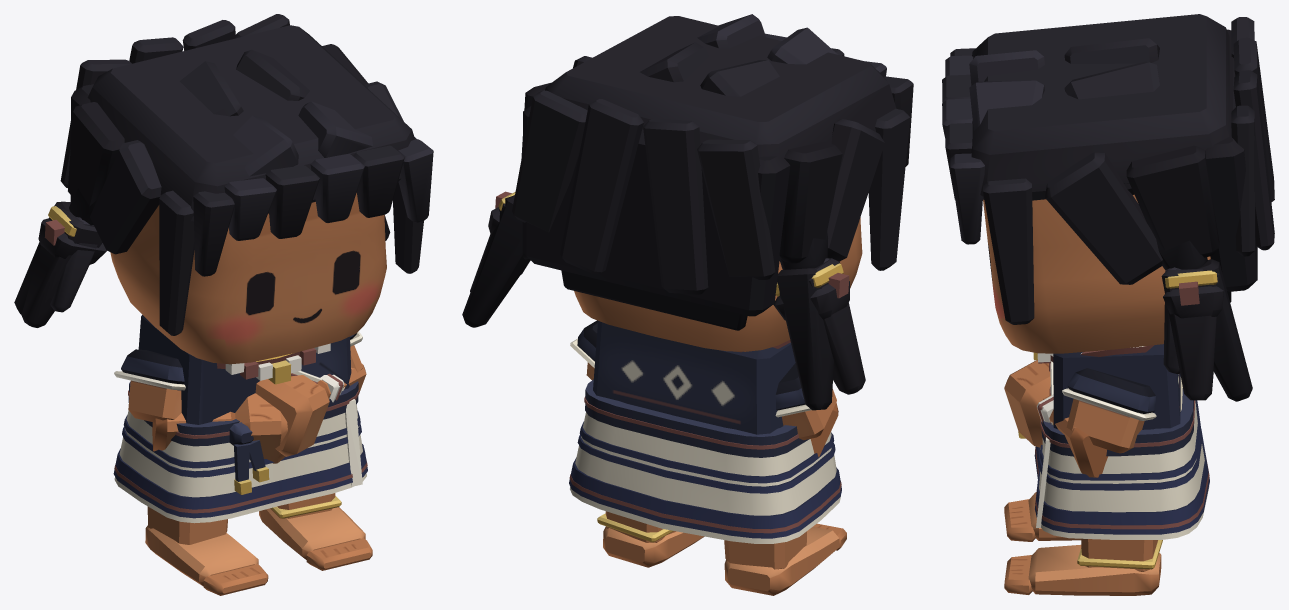
Rendered from audience_v2_girl_stand.glb.
3 renders of one model, left to right at view 1: azimuth 30°, elevation 25°; view 2: azimuth 150°, elevation 25°; view 3: azimuth 270°, elevation 25°, orthographic. The views are drawn at different scales.
Parts seen in each view (by area): view 1: audience_v2_girl_stand; view 2: audience_v2_girl_stand; view 3: audience_v2_girl_stand.
Part boxes in pixels (box(x1,y1,x2,y2)): audience_v2_girl_stand: box(14, 14, 433, 595); audience_v2_girl_stand: box(462, 14, 913, 595); audience_v2_girl_stand: box(942, 14, 1274, 595).
Size of the model in its own units: 0.553 by 0.6942 by 0.4139.
1 material, 1 textured.
